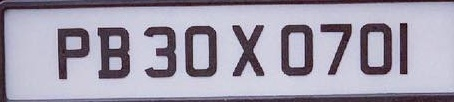character: (55, 25, 91, 79), (96, 25, 131, 80), (279, 23, 314, 77), (231, 23, 265, 77), (318, 21, 352, 75), (359, 20, 392, 75), (143, 25, 177, 78), (184, 25, 216, 77), (397, 20, 410, 76)
